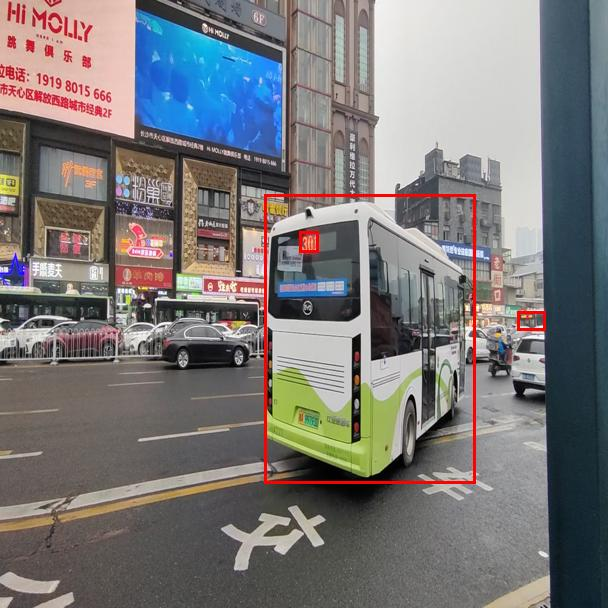bus: (264, 194, 475, 483), (517, 311, 545, 330)
screen: (299, 231, 318, 252)
